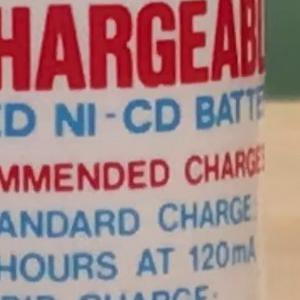keyword: (45, 88, 190, 146)
